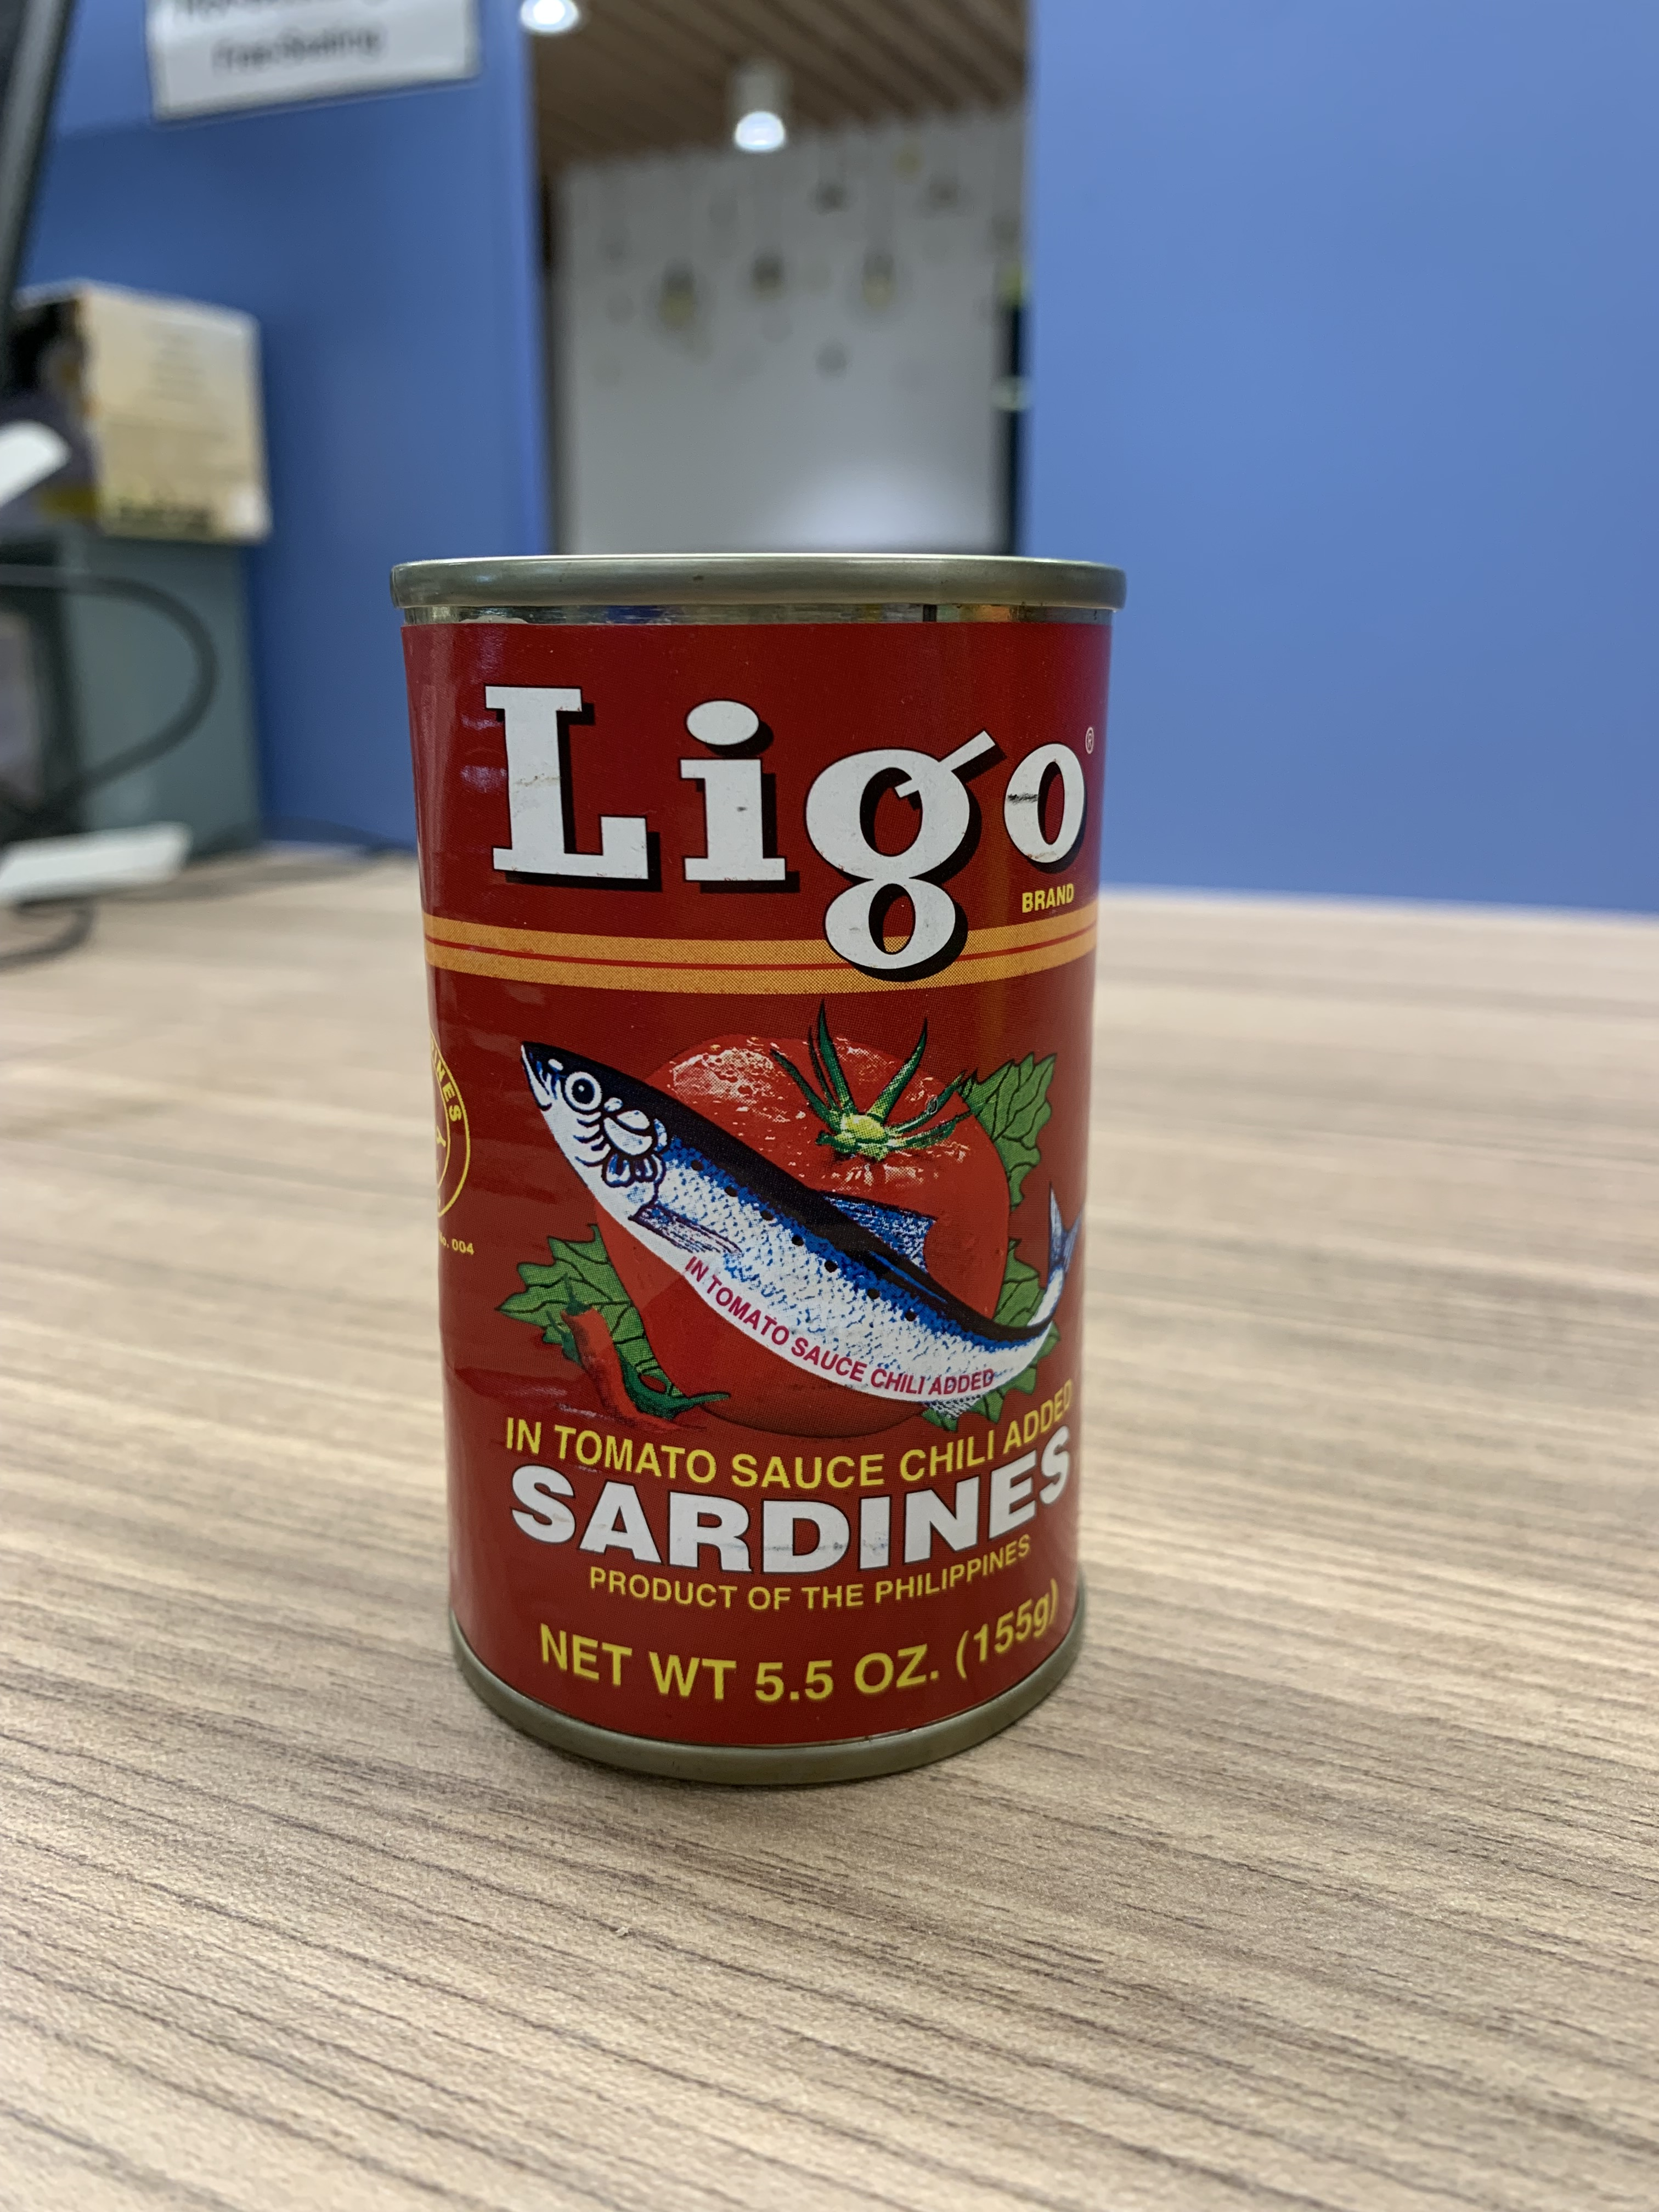sardines_100g-199g: (444, 585, 1089, 1698)
